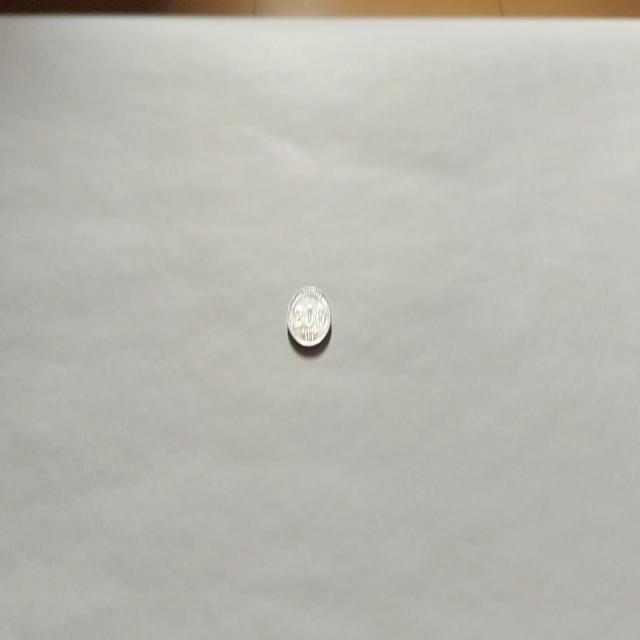dua ratus rupiah: (286, 284, 332, 348)
